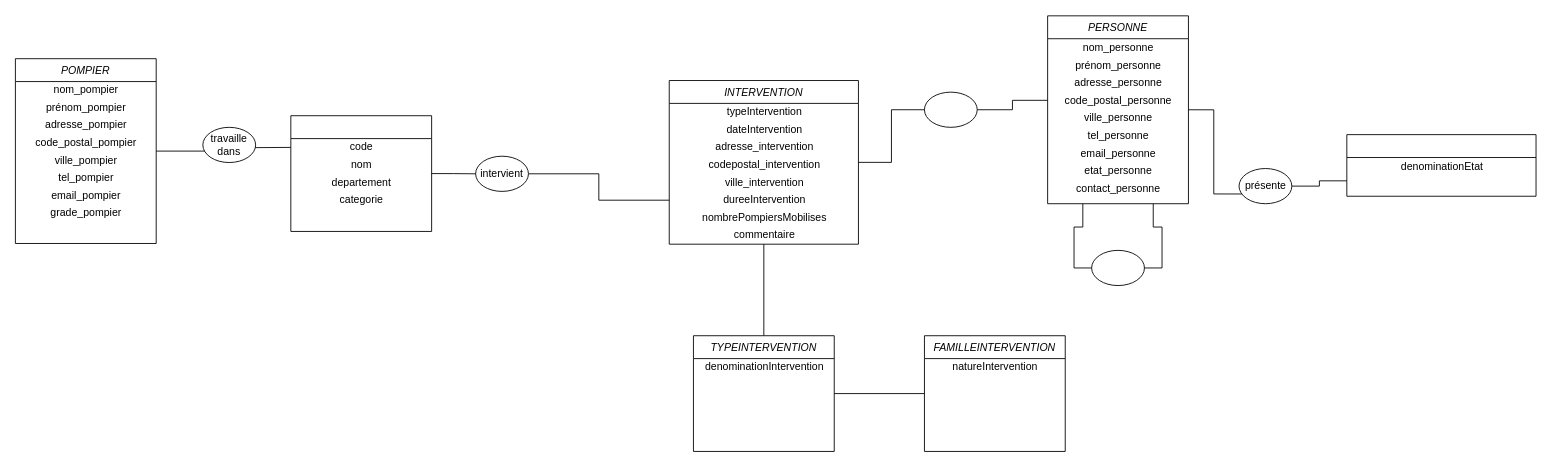
Image size: 1551x466. Some labels were removed from this diagram. Each missing label, with the box of its shape:
a pour contact: (1091, 249, 1144, 286)
concerne: (924, 91, 977, 127)
ETATSANTE: (1346, 134, 1536, 196)
SERVICE: (290, 115, 432, 231)
